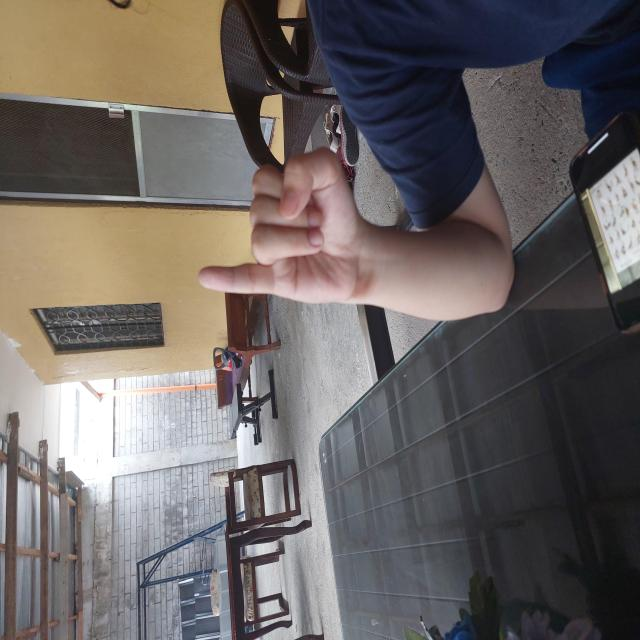I: (335, 196, 496, 364)
